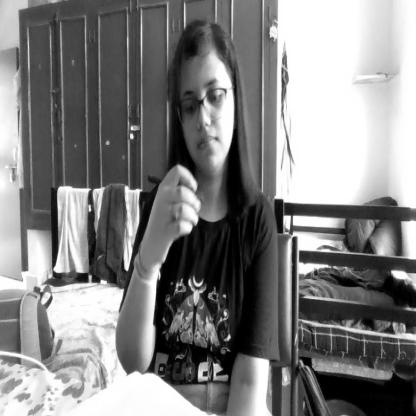Normal: (173, 27, 237, 186)
